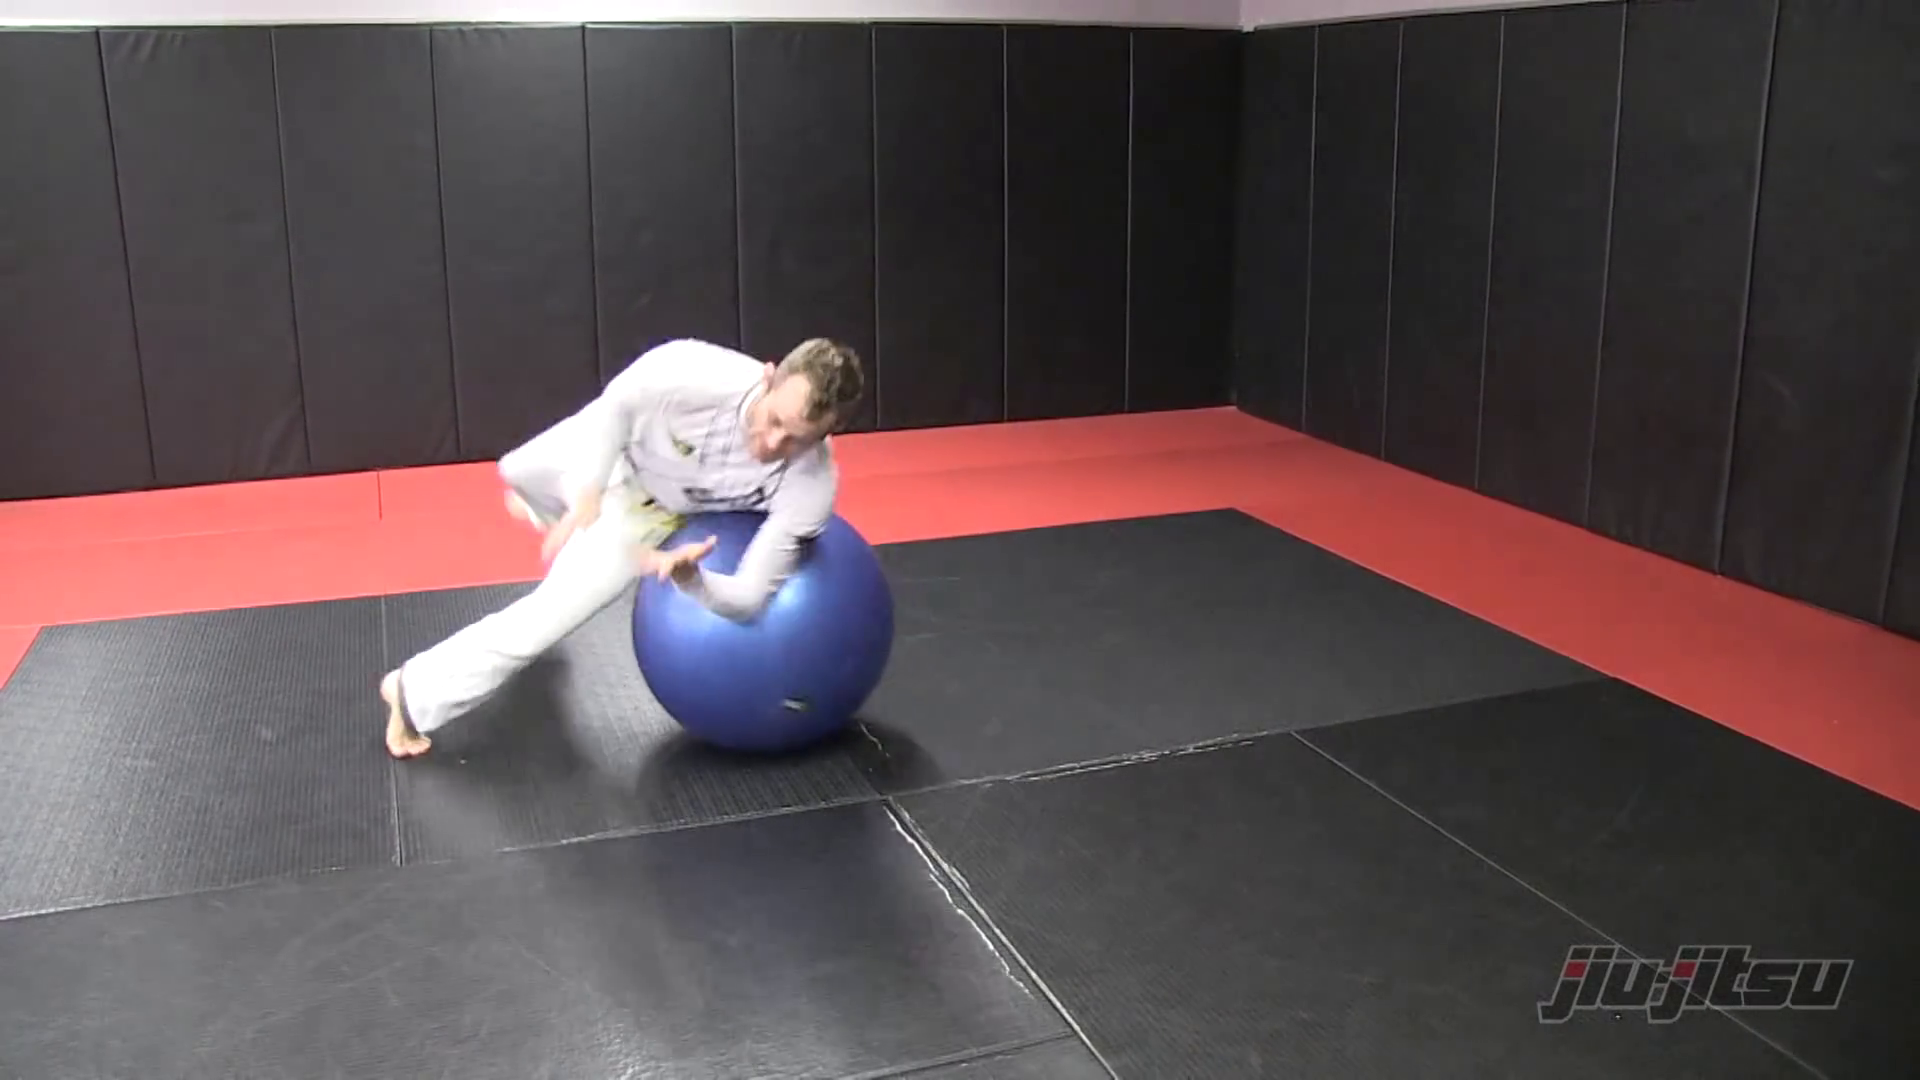yogaball: (622, 505, 924, 767)
